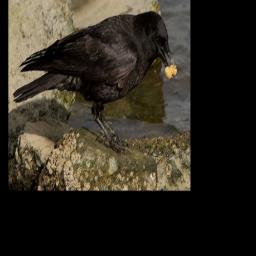Crow: (13, 9, 177, 155)
